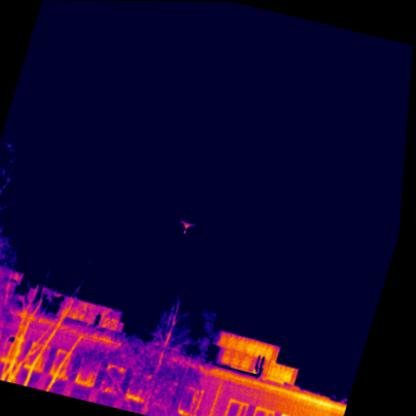drone: (180, 216, 199, 234)
